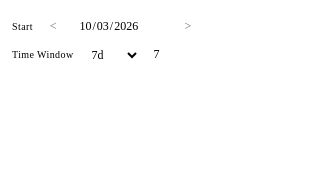
Test case: WindowStartNav — the start field › changing the length moves the start
Replace the text in the number field with test id "day-range-custom" with "14" at (178, 55), box [146, 41, 210, 69]
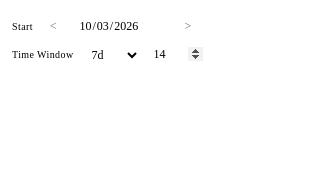
Press Enter
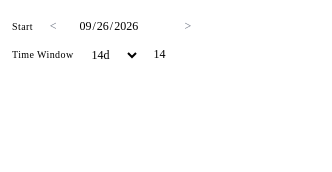
expect the date field with test id "window-start" holds "2026-09-26": met, box [70, 12, 170, 41]
